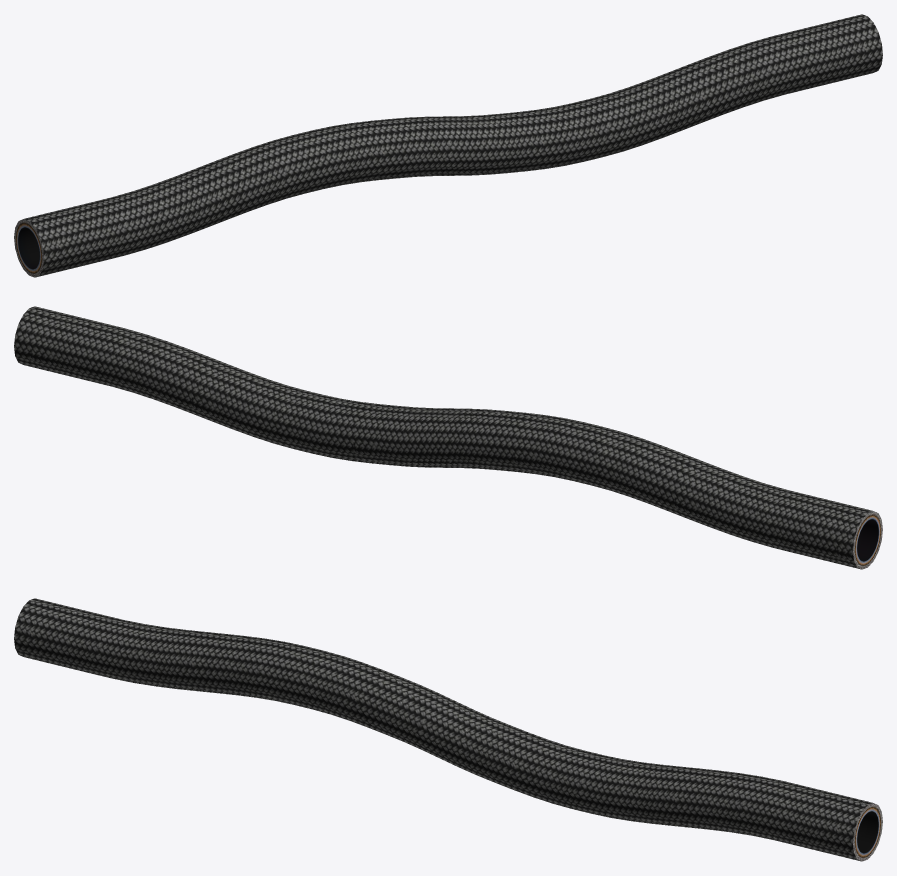
3 renders of one model, top to bottom at view 1: azimuth 30°, elevation 25°; view 2: azimuth 150°, elevation 25°; view 3: azimuth 330°, elevation 25°, orthographic.
Visible parts, largest first — view 1: Aramid_Braid-10; view 2: Aramid_Braid-10; view 3: Aramid_Braid-10.
Boxes of the visible parts, <box> form: Aramid_Braid-10: <box>14,14,882,277</box>; Aramid_Braid-10: <box>14,306,882,569</box>; Aramid_Braid-10: <box>14,598,882,861</box>.
Size of the model in its own units: 0.3074 by 0.0318 by 0.0191.
Materials: 2 (2 with a texture image).
